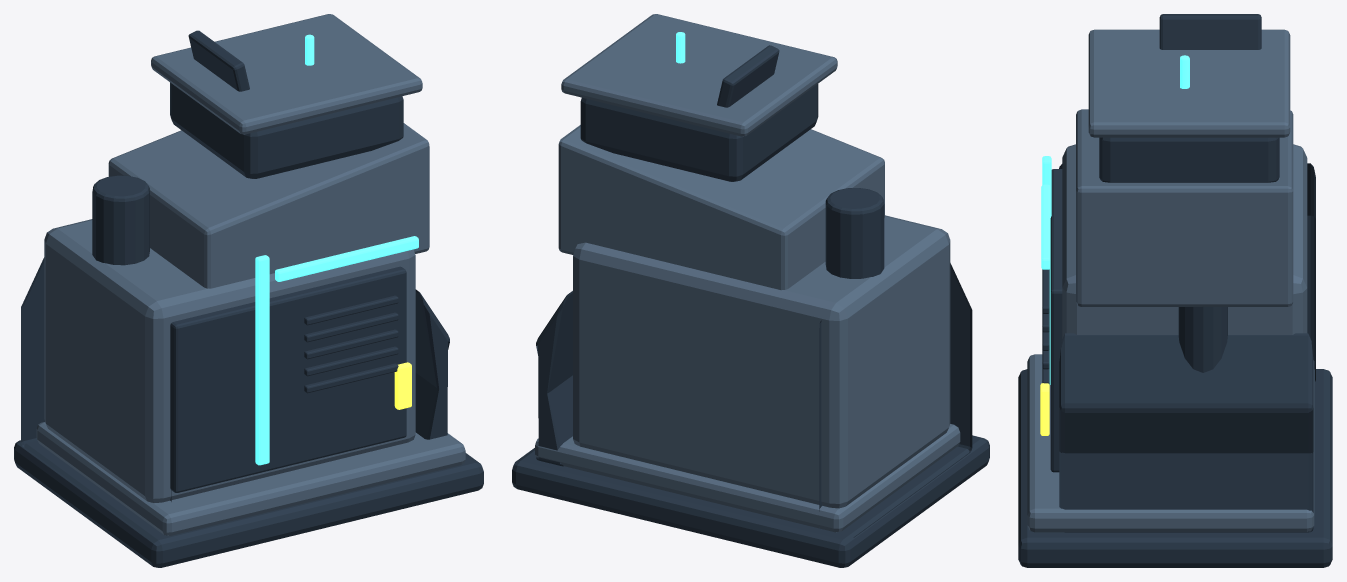
File: EchoSideEnergyStation.fbx
3 views of the same model, side by side, from view 1: azimuth 30°, elevation 25°; view 2: azimuth 150°, elevation 25°; view 3: azimuth 270°, elevation 25° (orthographic). The views are drawn at different scales.
Visible parts, largest first — view 1: EchoStructure_Geometry, EchoDepth_Geometry, EchoCyan_Geometry, EchoGold_Geometry; view 2: EchoStructure_Geometry, EchoDepth_Geometry; view 3: EchoDepth_Geometry, EchoStructure_Geometry, EchoCyan_Geometry, EchoGold_Geometry.
Boxes of the visible parts, x1,y1,x2,y2 form: EchoStructure_Geometry: (36,14,465,535); EchoDepth_Geometry: (14,30,483,567); EchoCyan_Geometry: (255,34,418,465); EchoGold_Geometry: (394,362,411,409); EchoStructure_Geometry: (535,14,960,532); EchoDepth_Geometry: (512,45,989,567); EchoDepth_Geometry: (1018,14,1332,567); EchoStructure_Geometry: (1027,29,1314,532); EchoCyan_Geometry: (1041,55,1189,384); EchoGold_Geometry: (1040,383,1049,435).
Bounding box in the file's own units: 4.5 × 5.5 × 3.4.
